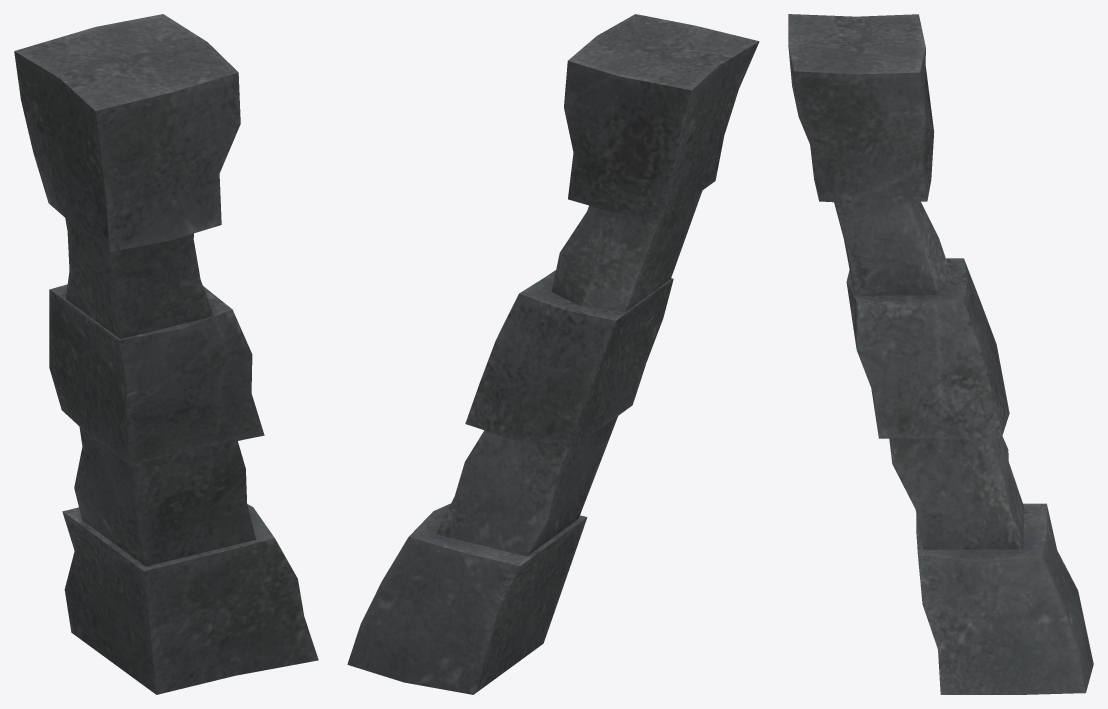
The model's file is ColumnTilt.fbx.
3 renders of one model, left to right at view 1: azimuth 30°, elevation 25°; view 2: azimuth 150°, elevation 25°; view 3: azimuth 270°, elevation 25°, orthographic. The views are drawn at different scales.
Visible parts, largest first — view 1: PILLAR_Curve; view 2: PILLAR_Curve; view 3: PILLAR_Curve.
Part boxes in pixels (x1,y1,x2,y2): PILLAR_Curve: [14, 14, 318, 694]; PILLAR_Curve: [347, 14, 759, 694]; PILLAR_Curve: [788, 14, 1093, 694].
Bounding box in the file's own units: 5.82 × 12.16 × 6.05.
Materials: 1 (1 with a texture image).
